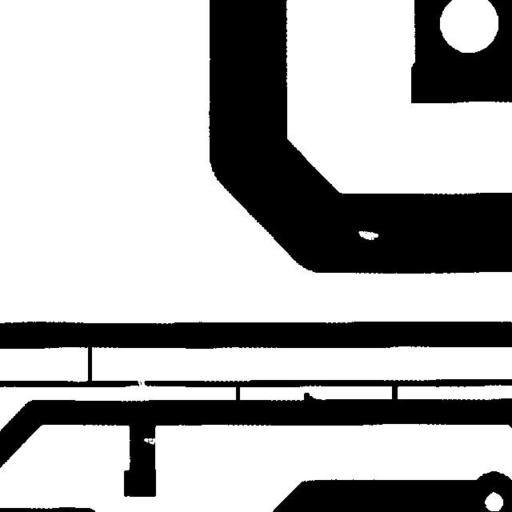mousebite: (136, 430, 163, 452)
open: (128, 370, 153, 398)
pin-hole: (350, 223, 386, 247)
short: (80, 336, 99, 390), (384, 375, 406, 411), (228, 376, 248, 409)
spur: (296, 385, 328, 412)
